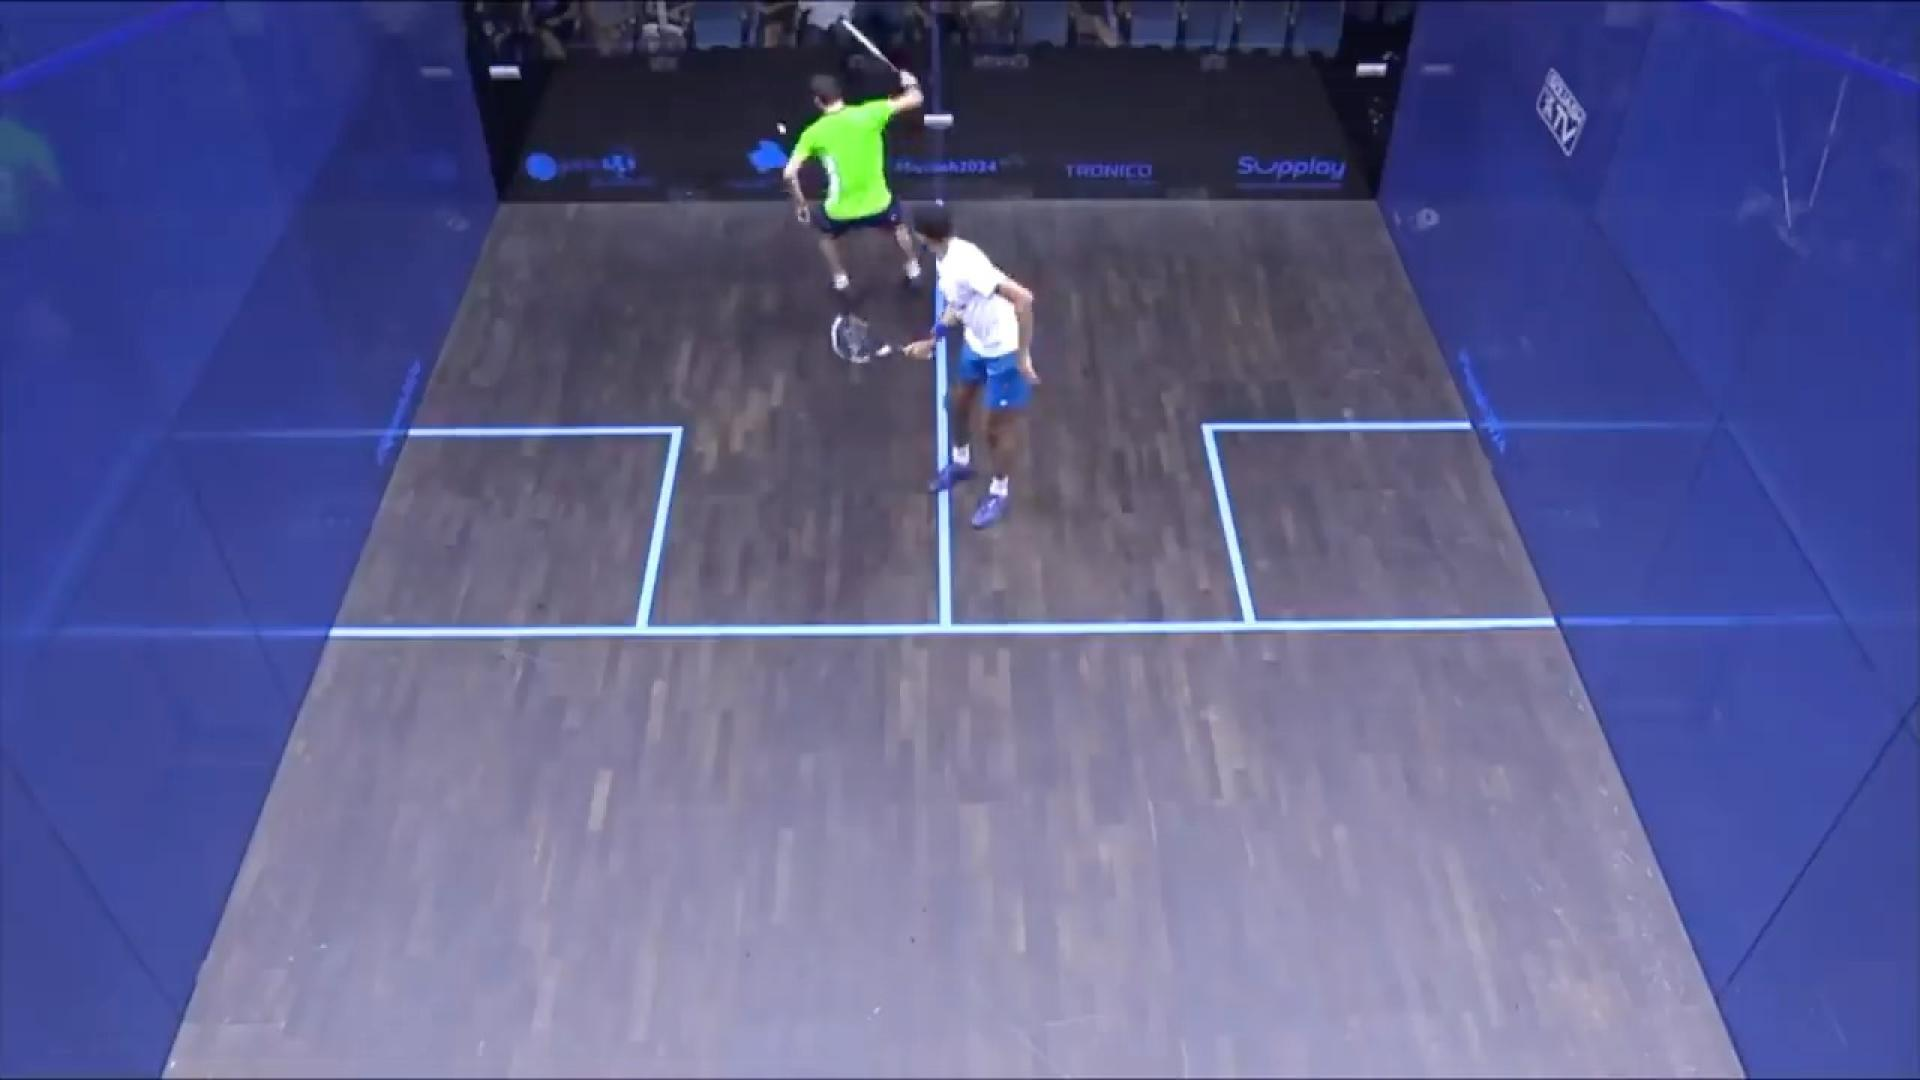Squash-Ball: (770, 112, 795, 148)
